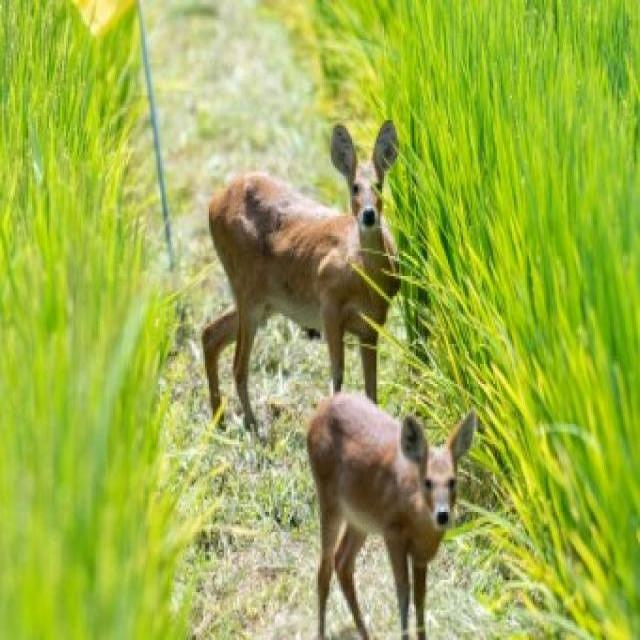deer: (144, 97, 416, 412), (272, 386, 501, 640)
